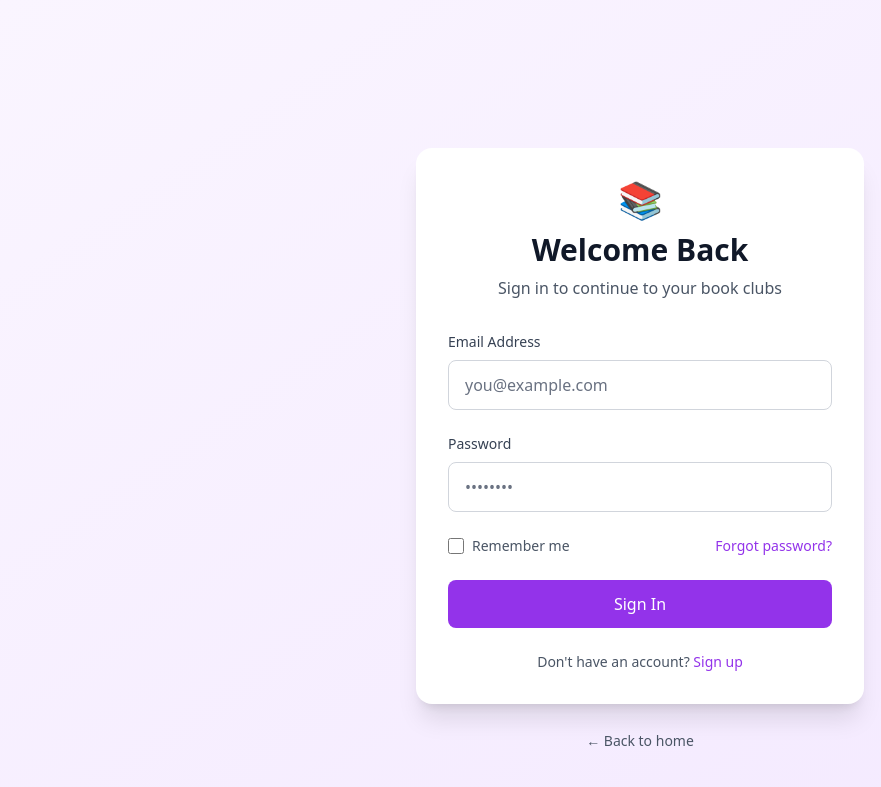
Test: LoginPage › shows validation error for invalid email
This screenshot has width=881, height=787.
Step 1. Type "invalid-email" into the field labelled "Email Address" → (640, 385), box [448,360,832,410]
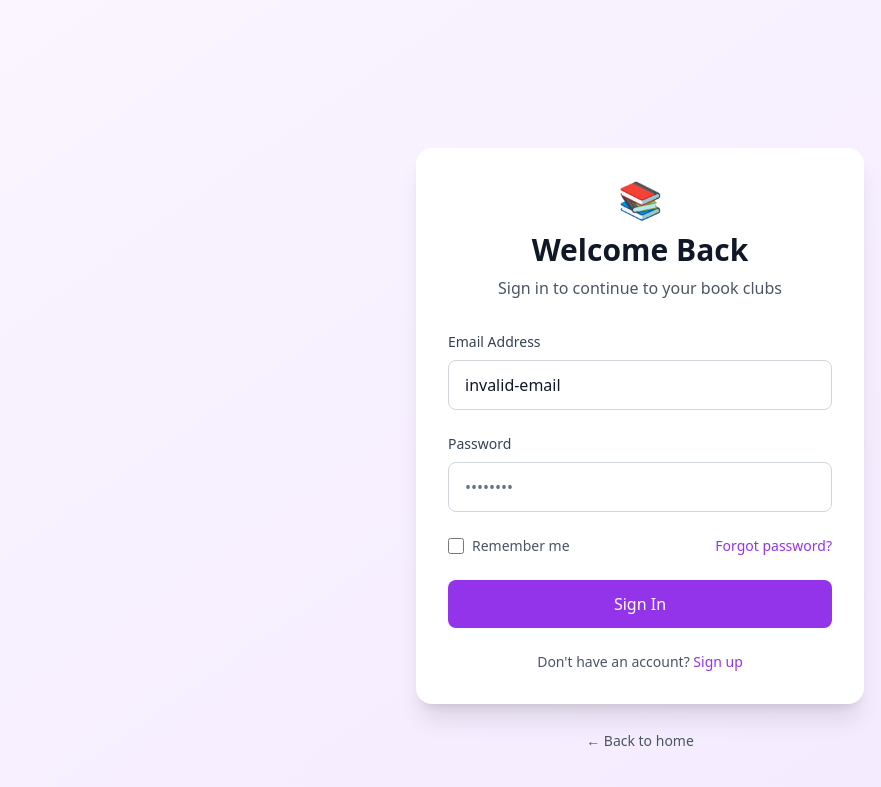
Step 2. Submit the form, box [448,332,832,628]
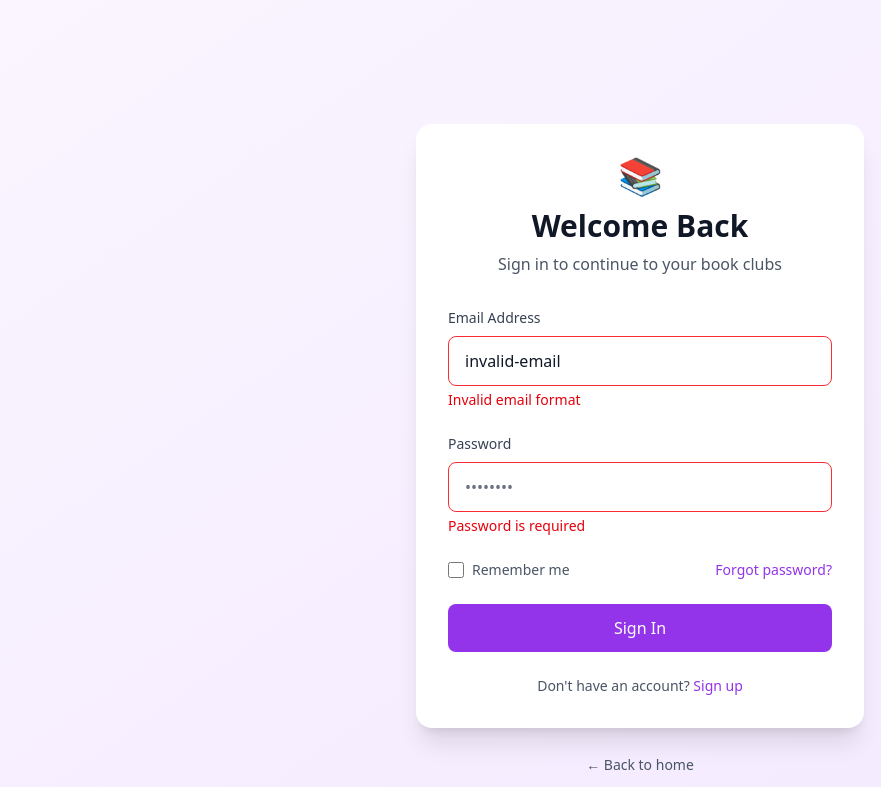
Check: the text "Invalid email format" is shown, box [448,390,581,409]
